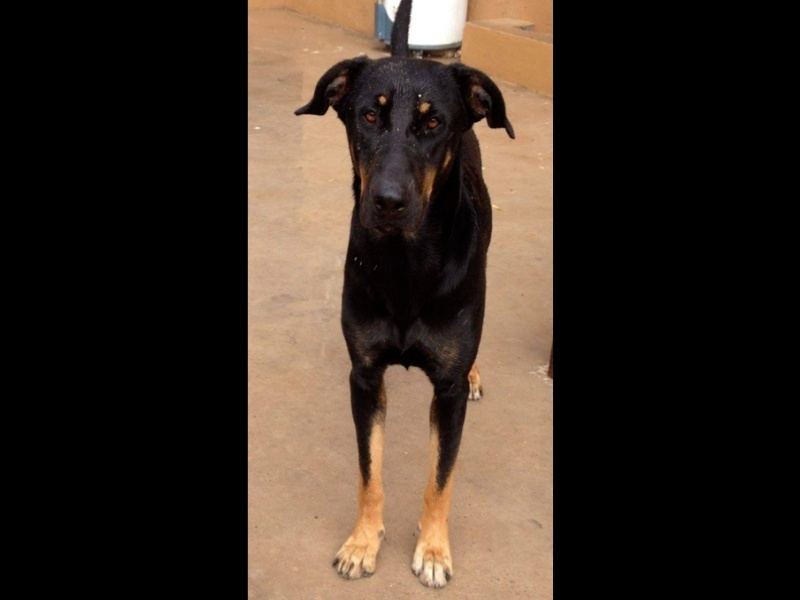dog: (286, 8, 532, 596)
